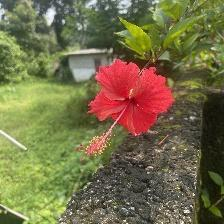hibiscus: (73, 56, 176, 176)
